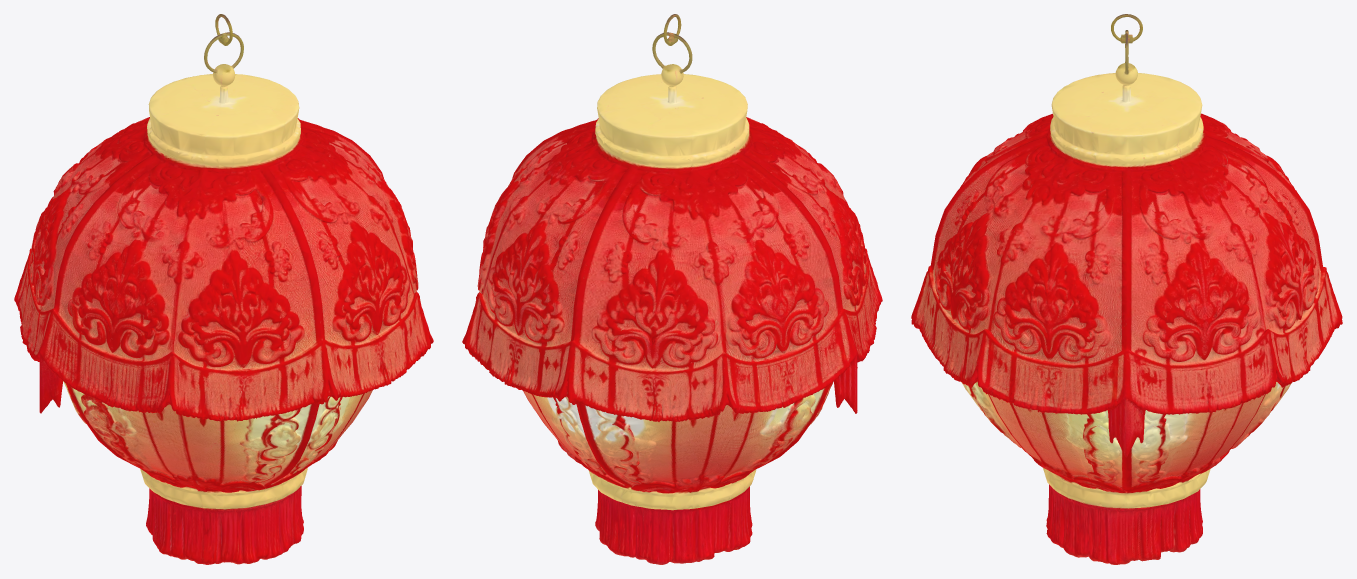
The model's file is lib_lantern.hd.glb.
3 renders of one model, left to right at view 1: azimuth 30°, elevation 25°; view 2: azimuth 150°, elevation 25°; view 3: azimuth 270°, elevation 25°, orthographic.
Size of the model in its own units: 1.41 by 1.9 by 1.43.
Materials: 1 (1 with a texture image).
